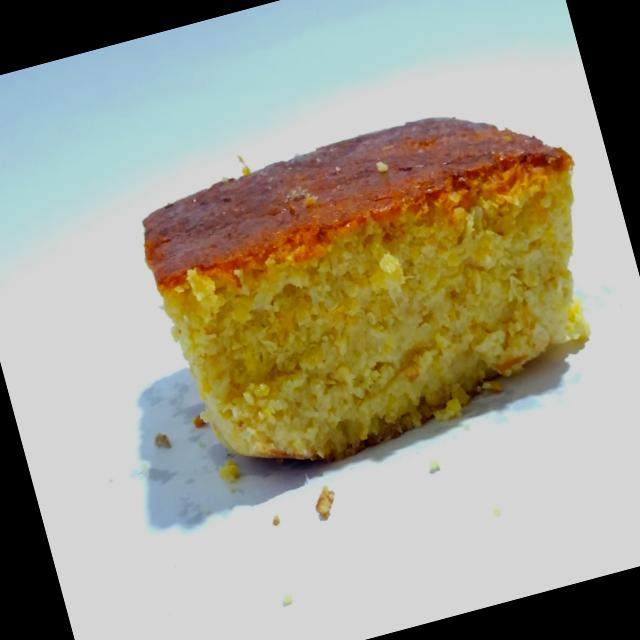Chipa_Guazu: (116, 65, 634, 508)
